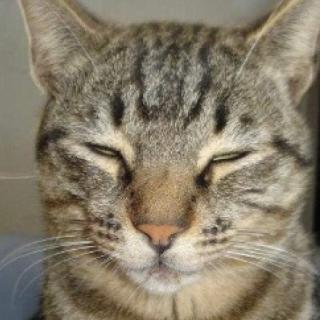cat: (15, 0, 320, 297)
nose: (132, 191, 190, 252)
